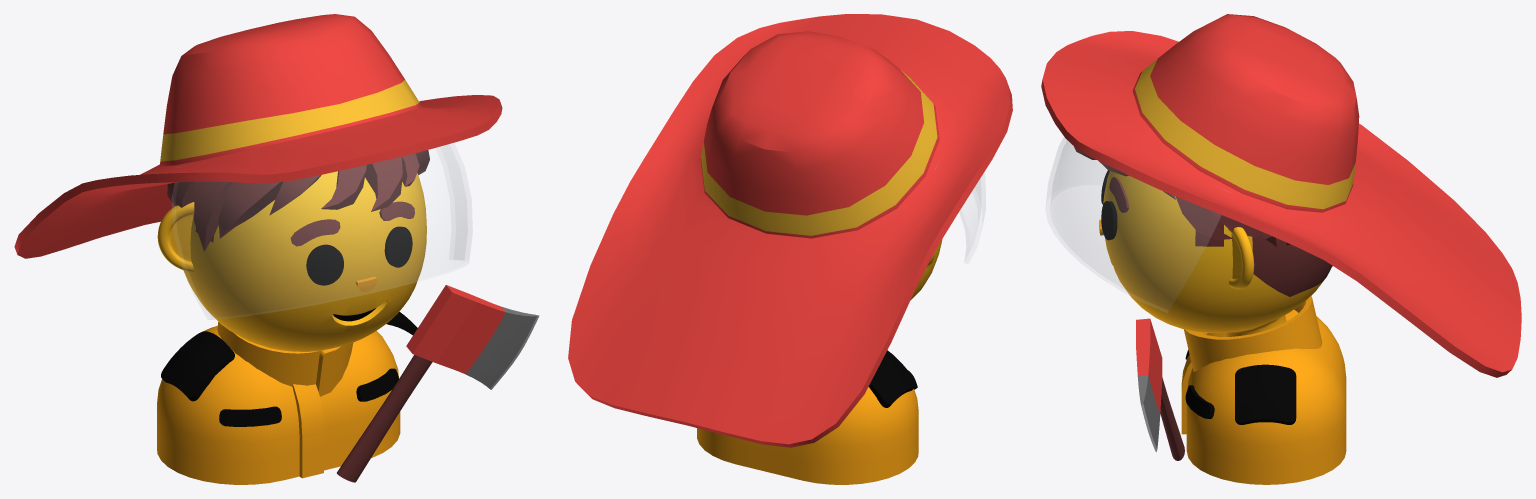
Rendered from firefighter.glb.
The picture shows the model from 3 angles, left to right: view 1: azimuth 30°, elevation 25°; view 2: azimuth 150°, elevation 25°; view 3: azimuth 270°, elevation 25°; orthographic projection. The views are drawn at different scales.
Visible parts, largest first — view 1: Plane.071, Sphere.104, Roundcube.139, Sphere.103, Cube.1725, Cube.1716, Circle.760, Cube.1724, Circle.757, Cylinder.115, Sphere.105, Circle.759; view 2: Plane.071, Sphere.103, Cube.1724, Sphere.104; view 3: Plane.071, Roundcube.139, Sphere.103, Sphere.104, Circle.760, Cube.1724, Cube.1725, Cube.1716, Cylinder.115, Circle.757, Sphere.105.
Boxes of the visible parts, x1,y1,x2,y2 form: Plane.071: (14, 14, 502, 258); Sphere.104: (172, 143, 472, 319); Roundcube.139: (183, 171, 426, 351); Sphere.103: (157, 326, 400, 484); Cube.1725: (337, 285, 539, 482); Cube.1716: (167, 150, 429, 251); Circle.760: (217, 322, 353, 396); Cube.1724: (161, 312, 417, 401); Circle.757: (306, 226, 412, 285); Cylinder.115: (157, 202, 194, 272); Sphere.105: (219, 368, 398, 426); Circle.759: (290, 201, 414, 246); Plane.071: (568, 14, 1012, 447); Sphere.103: (697, 387, 918, 484); Cube.1724: (868, 350, 915, 407); Sphere.104: (960, 172, 985, 263); Plane.071: (1041, 14, 1521, 377); Roundcube.139: (1103, 171, 1332, 336); Sphere.103: (1181, 309, 1346, 484); Sphere.104: (1046, 137, 1220, 312); Circle.760: (1184, 296, 1322, 371); Cube.1724: (1235, 364, 1296, 424); Cube.1725: (1136, 318, 1184, 460); Cube.1716: (1074, 146, 1290, 246); Cylinder.115: (1228, 227, 1254, 289); Circle.757: (1101, 170, 1117, 240); Sphere.105: (1185, 350, 1214, 419).
Size of the model in its own units: 2.2 by 2.57 by 2.71.
2 materials, 1 textured.
